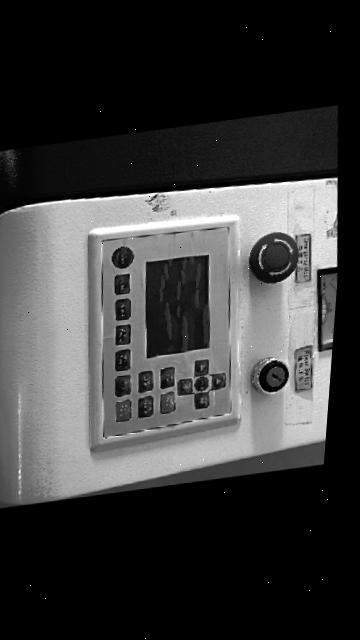Amp_Meter: (317, 268, 337, 349)
Display: (144, 254, 208, 358)
Down_button: (177, 378, 191, 395)
Emergency_Stop: (249, 232, 298, 283)
Enter_button: (159, 392, 174, 413)
Esc_button: (159, 367, 173, 388)
File_button: (114, 375, 129, 396)
Frame_button: (137, 396, 152, 417)
Left_button: (193, 359, 207, 376)
Max-Power_button: (114, 349, 129, 371)
Min-Power_button: (114, 324, 129, 345)
Origin_button: (137, 371, 152, 392)
Power_switch: (250, 357, 287, 393)
Pulse_button: (113, 273, 129, 294)
Reset_button: (110, 247, 132, 268)
Right_button: (193, 392, 208, 408)
Speed_button: (114, 299, 129, 320)
Start-Pause_button: (114, 400, 129, 422)
Up_button: (210, 373, 224, 389)
Z_U_button: (193, 376, 207, 391)
